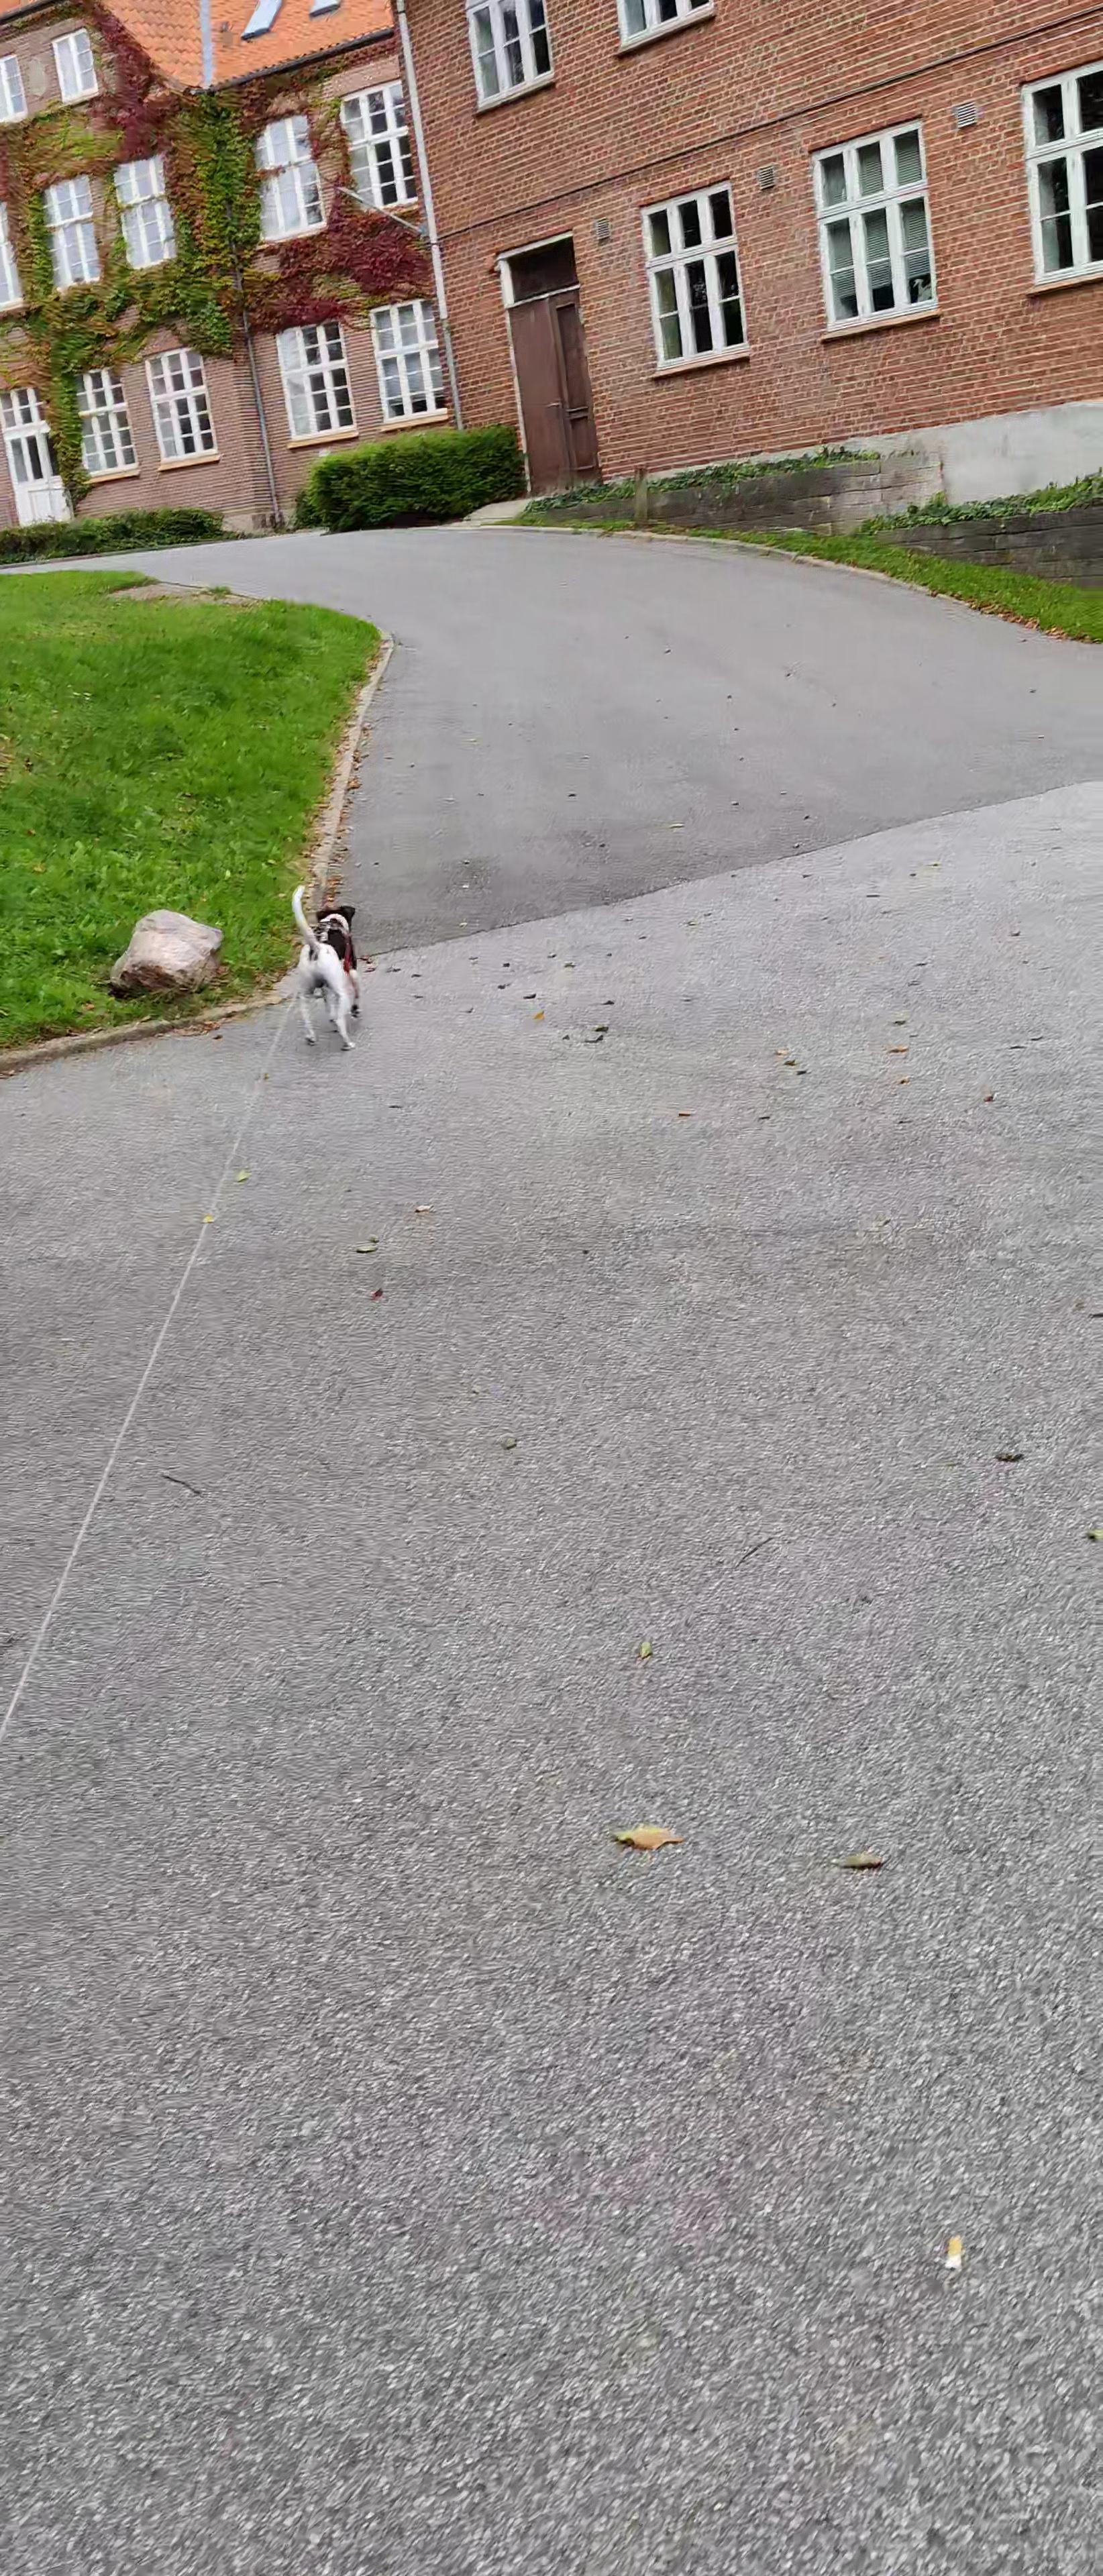Dog: (281, 879, 367, 1060)
